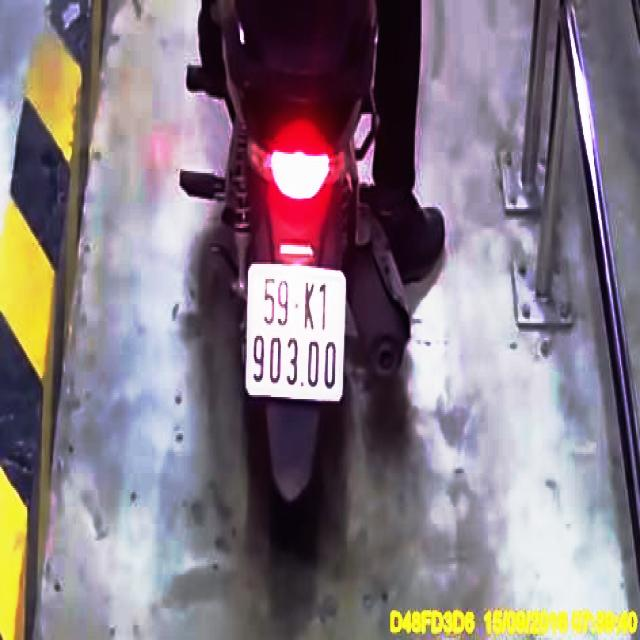license_plate: (246, 267, 347, 401)
